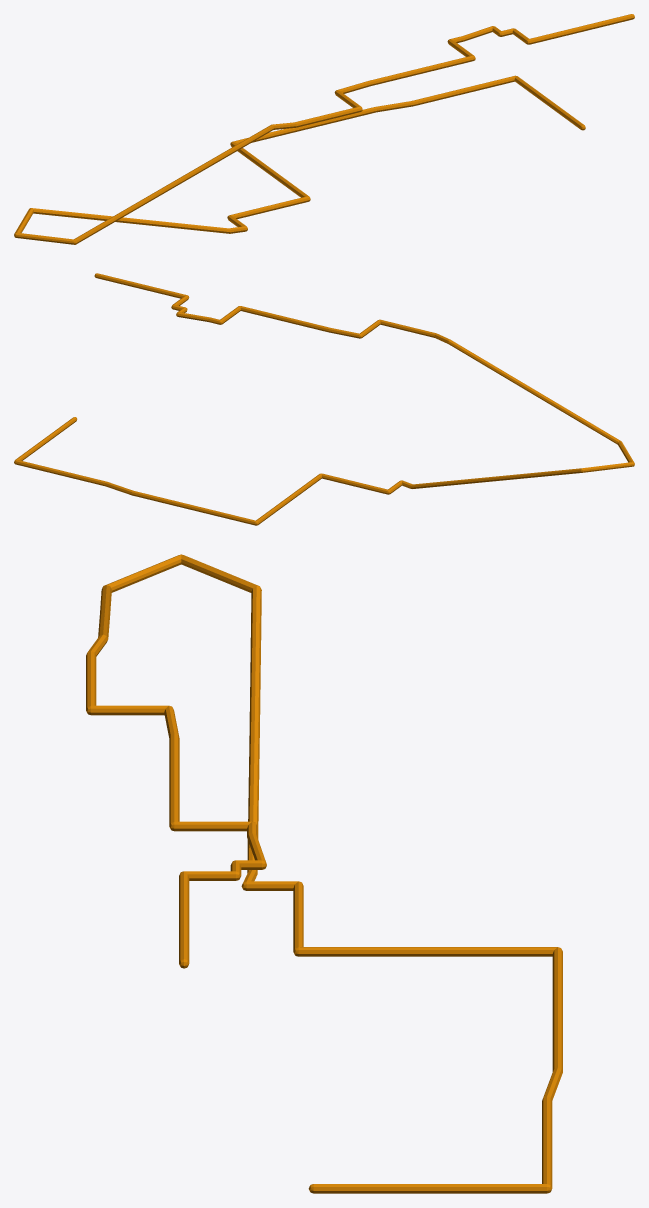
3 views of the same model, one above another, from view 1: azimuth 30°, elevation 25°; view 2: azimuth 150°, elevation 25°; view 3: azimuth 270°, elevation 25° (orthographic). The views are drawn at different scales.
Bounding box in the file's own units: 2402 × 520 × 920.
